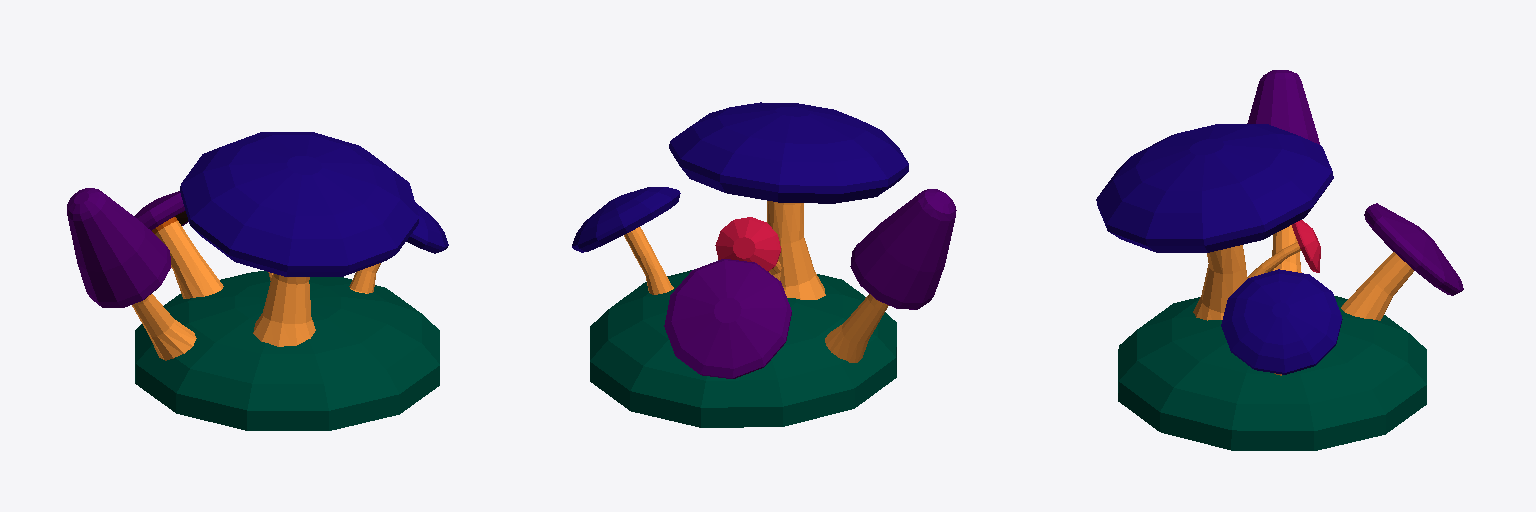
3 renders of one model, left to right at view 1: azimuth 30°, elevation 25°; view 2: azimuth 150°, elevation 25°; view 3: azimuth 270°, elevation 25°, orthographic.
Visible parts, largest first — view 1: group[number redacted], group[number redacted], group[number redacted], group[number redacted], group[number redacted]; view 2: group[number redacted], group[number redacted], group[number redacted], group[number redacted], group[number redacted]; view 3: group[number redacted], group[number redacted], group[number redacted], group[number redacted], group[number redacted].
Part boxes in pixels (x1,y1,x2,y2): group[number redacted]: (135,271,439,430); group[number redacted]: (180,132,419,346); group[number redacted]: (67,188,196,360); group[number redacted]: (134,191,223,298); group[number redacted]: (349,202,448,293); group[number redacted]: (590,269,896,427); group[number redacted]: (669,102,908,299); group[number redacted]: (664,259,791,378); group[number redacted]: (825,189,956,362); group[number redacted]: (572,187,680,294); group[number redacted]: (1118,296,1426,450); group[number redacted]: (1096,124,1333,320); group[number redacted]: (1221,269,1342,375); group[number redacted]: (1341,203,1463,320); group[number redacted]: (1247,70,1319,272).
Bounding box in the file's own units: 6.68 × 4.04 × 5.74.